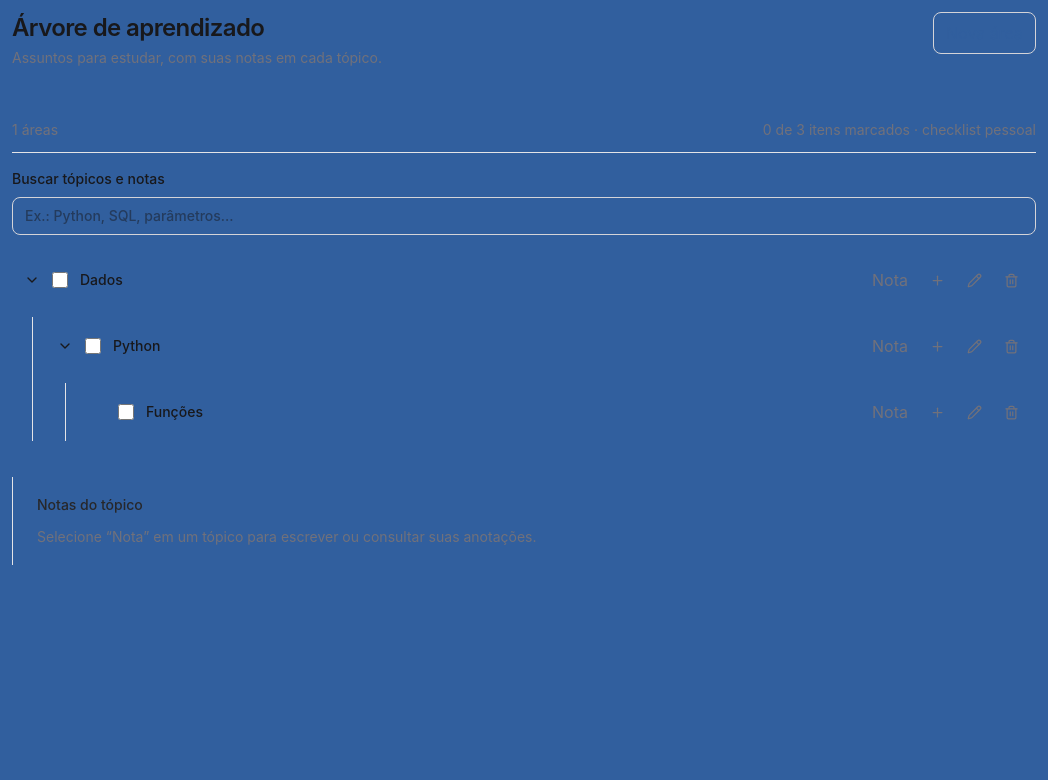
Test case: preserves the checkbox when saving fails
The image size is (1048, 780).
Click the checkbox labelled "Python". click: (93, 346)
box: [85,338,101,354]
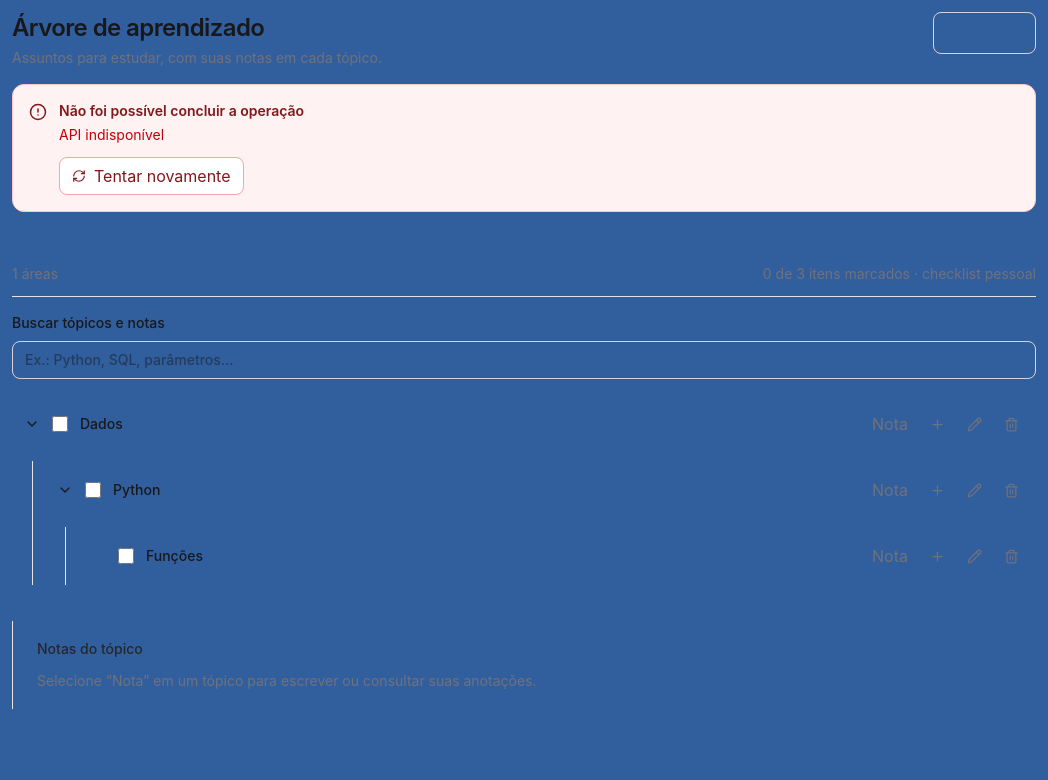
Check: the checkbox labelled "Python" is not checked, box [85,482,101,498]
Check: the message "Não foi possível concluir a operação API indisponível Tentar novamente" is shown, box [12,84,1036,212]
